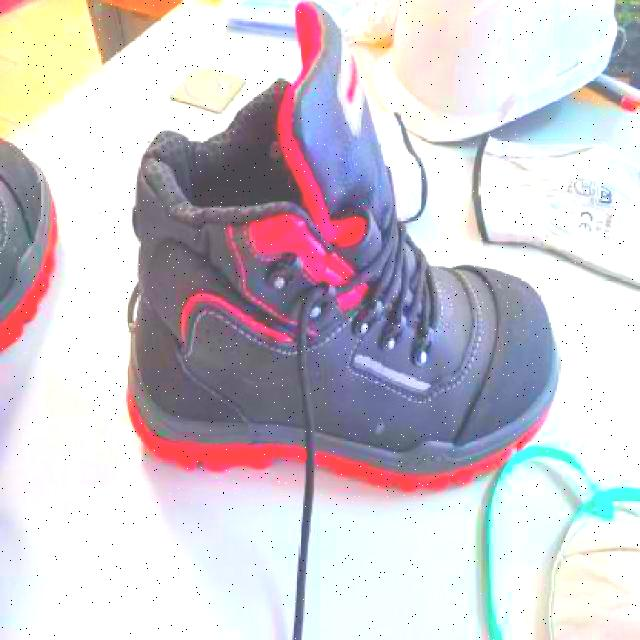Boots: (122, 250, 556, 481)
